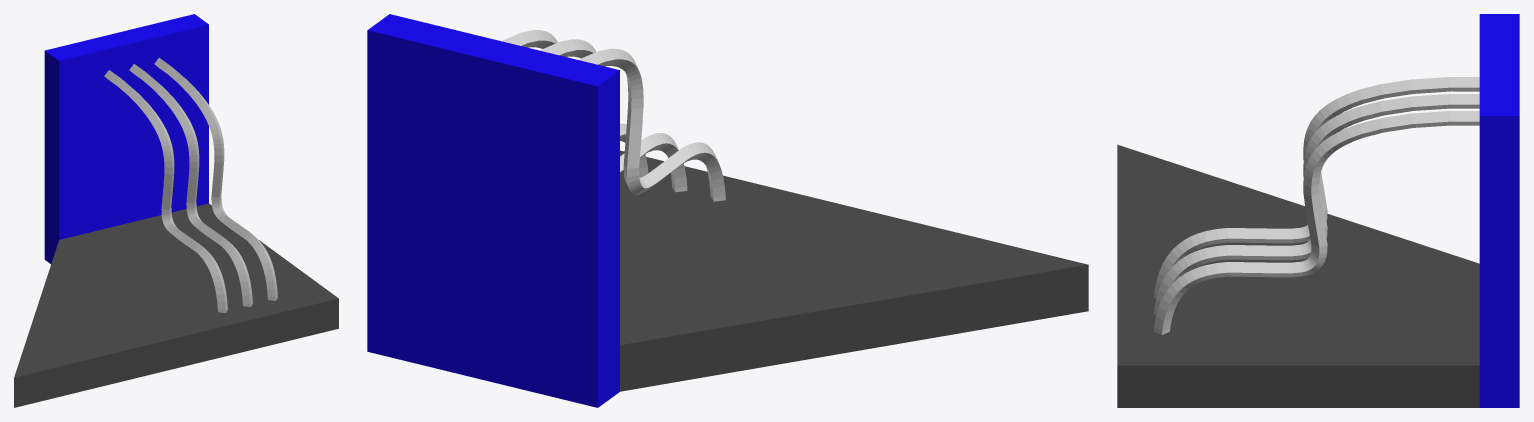
Rendered from GrenzeRechts.fbx.
3 views of the same model, side by side, from view 1: azimuth 30°, elevation 25°; view 2: azimuth 150°, elevation 25°; view 3: azimuth 270°, elevation 25° (orthographic). The views are drawn at different scales.
Parts seen in each view (by area): view 1: GrenzeRechts; view 2: GrenzeRechts; view 3: GrenzeRechts.
Boxes of the visible parts, x1=… form: GrenzeRechts: x1=14, y1=14, x2=338, y2=407; GrenzeRechts: x1=367, y1=14, x2=1088, y2=407; GrenzeRechts: x1=1117, y1=14, x2=1519, y2=407.
Bounding box in the file's own units: 13 × 8 × 10.
